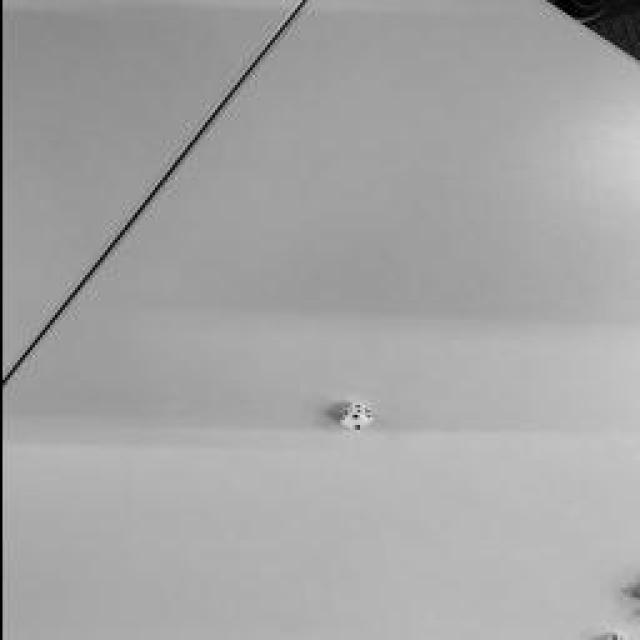dice_2: (340, 412, 370, 430)
